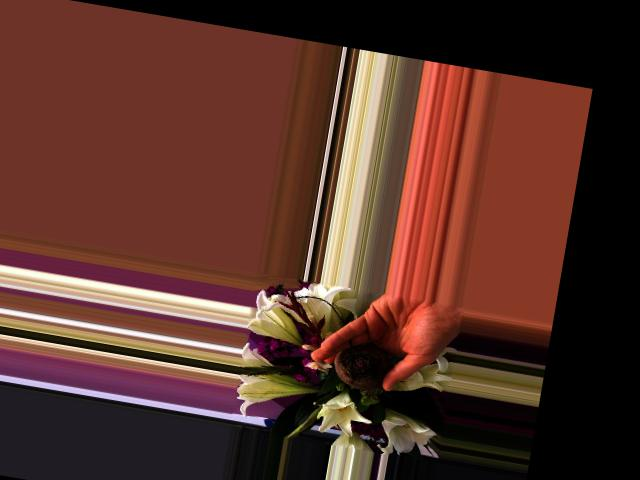beet: (329, 338, 393, 393)
